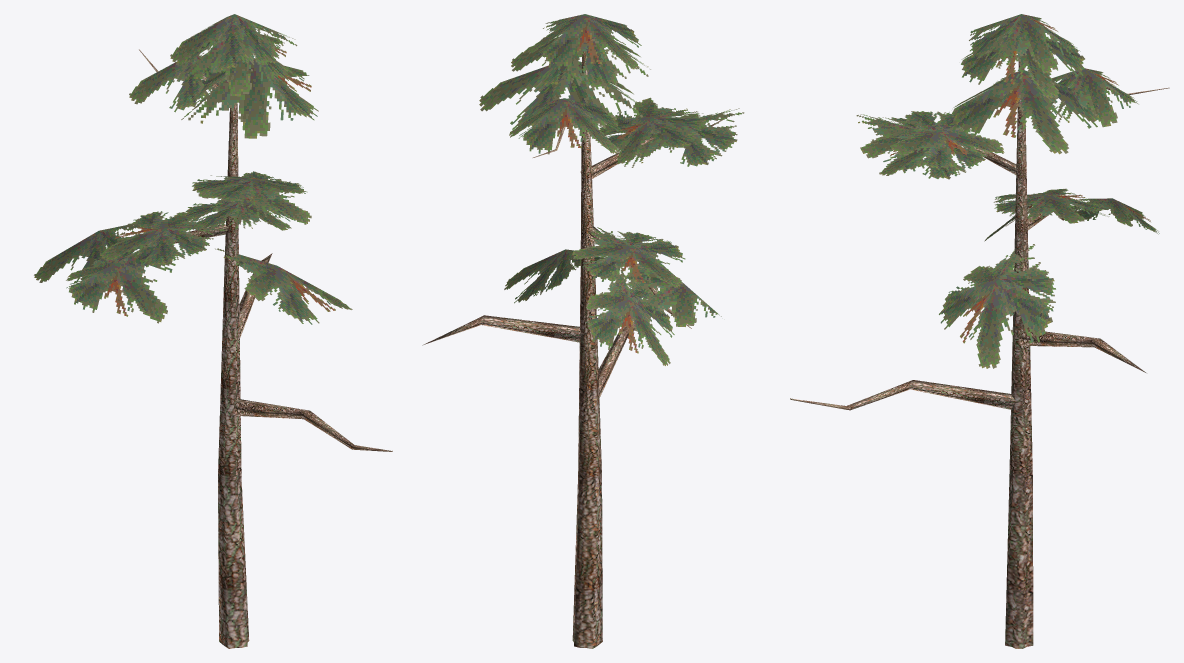
File: tree.glb
3 views of the same model, side by side, from view 1: azimuth 30°, elevation 25°; view 2: azimuth 150°, elevation 25°; view 3: azimuth 270°, elevation 25° (orthographic).
Parts seen in each view (by area): view 1: tree_tall; view 2: tree_tall; view 3: tree_tall.
Part boxes in pixels (x1,y1,x2,y2): tree_tall: [34, 14, 392, 648]; tree_tall: [422, 14, 744, 648]; tree_tall: [790, 14, 1169, 648].
Size of the model in its own units: 5.55 by 11.52 by 6.3.
2 materials, 2 textured.
